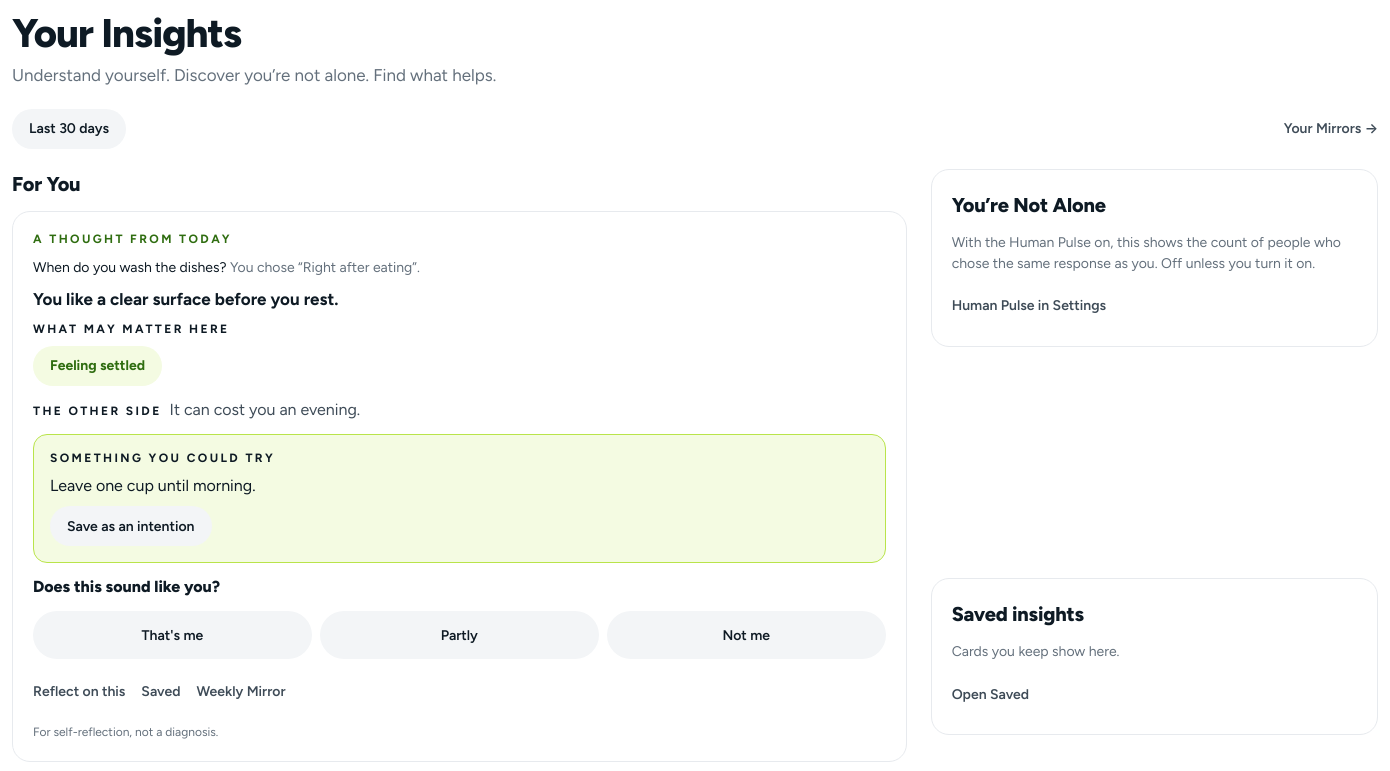
Insights › keeps the small step as an intention in Reflect
The width and height of the screenshot is (1390, 771).
Click the button "Save as an intention".
click(131, 526)  # box [50,506,212,546]
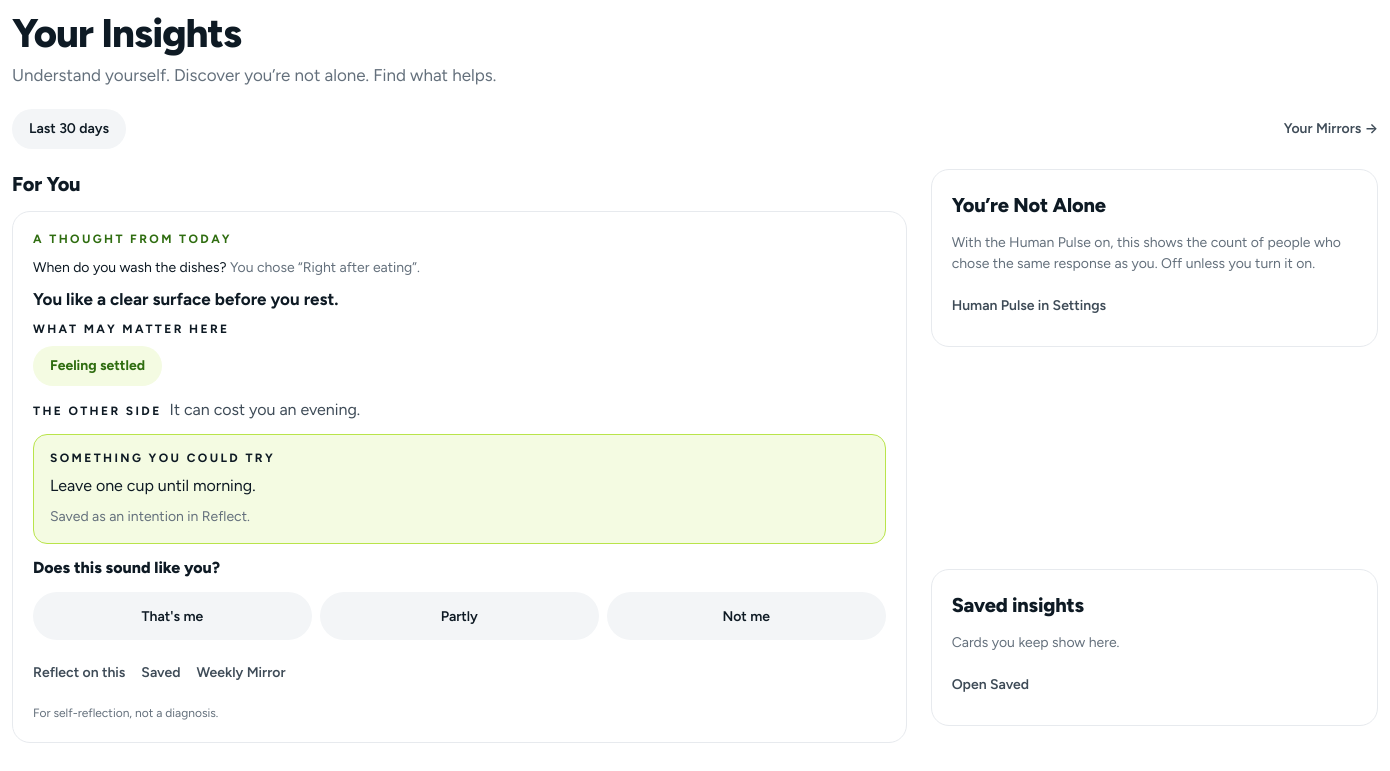
Expected: the message reads "Saved as an intention in Reflect.", [50,508,250,525]
